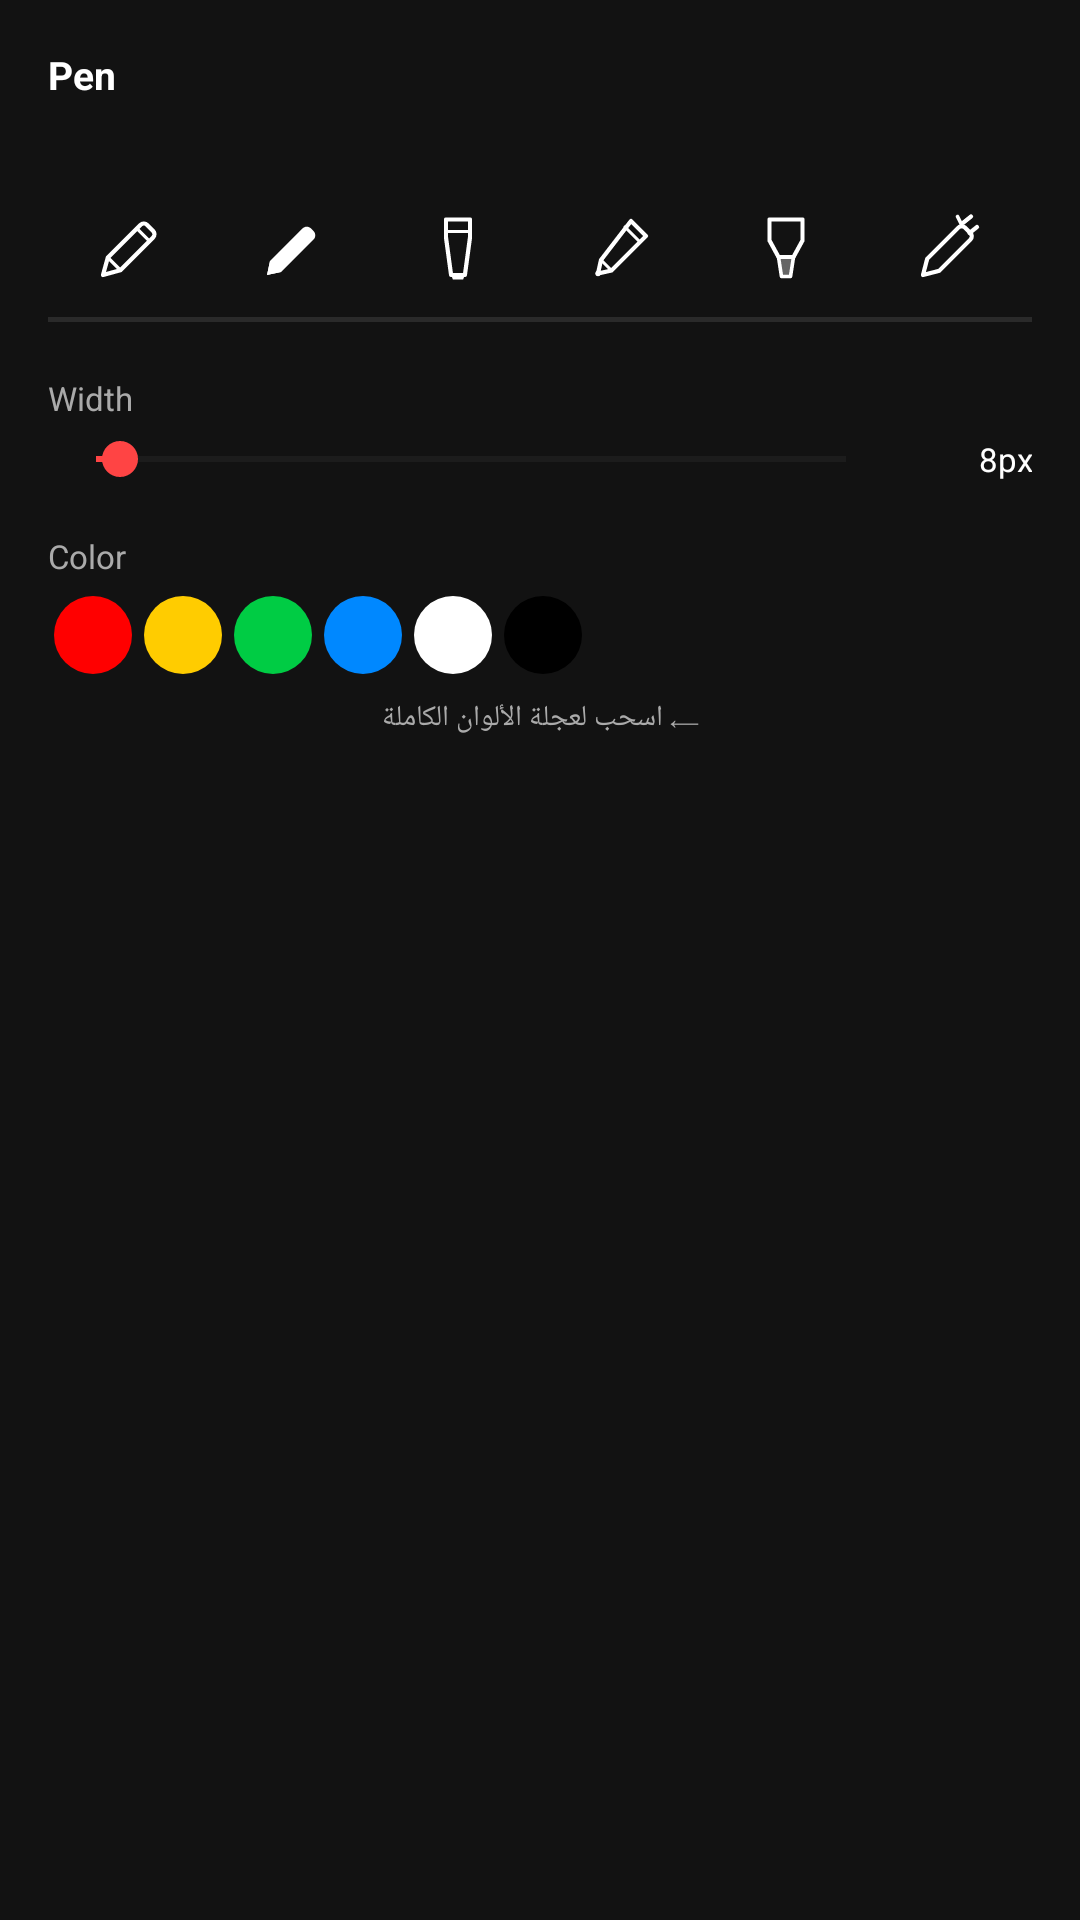

Icon bounding boxes for this 1080*1920 phone screenshot, format (x1, y1, x2, y2):
nib highlighter: (767, 217, 805, 279)
nib pen: (101, 221, 157, 277)
